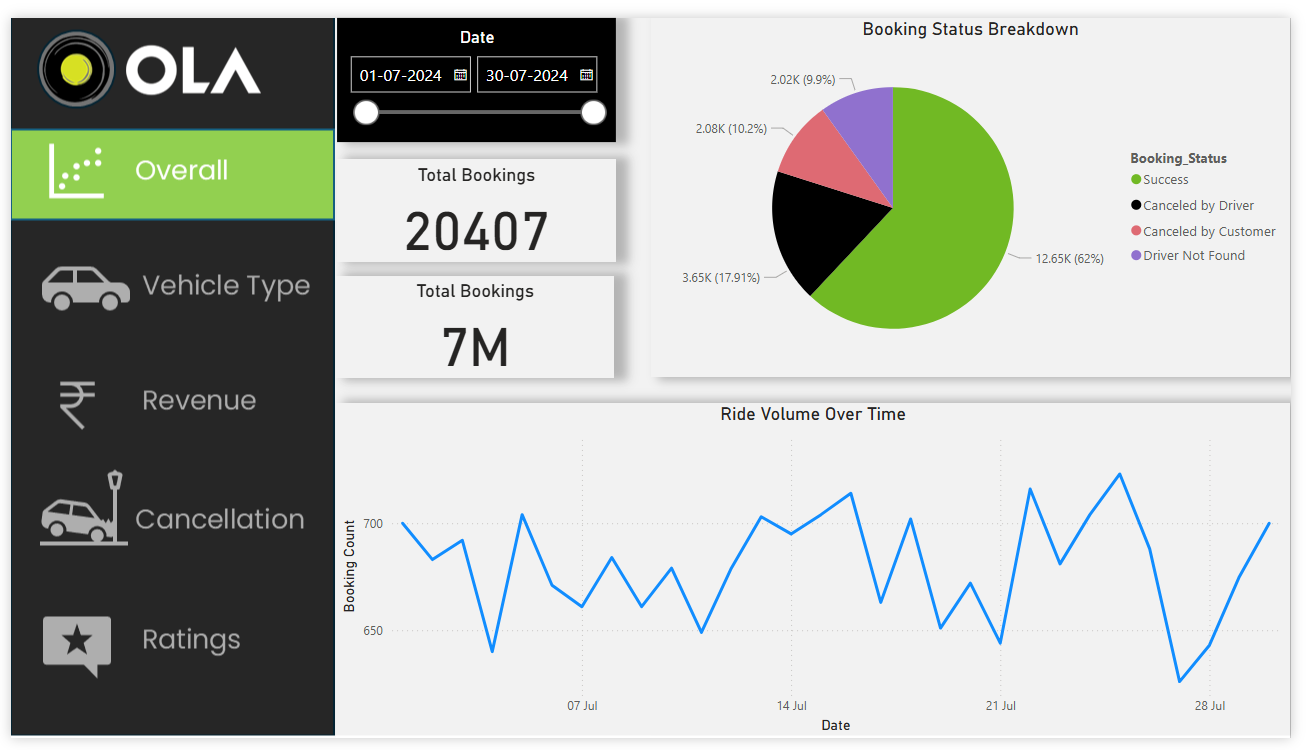

The dashboard page shown, as its layout file describes it:
{"tool":"powerbi","page":{"name":"Overall","canvas":[1280,720],"ordinal":0},"visuals":[{"type":"actionButton","box":[0,221.5,325.3,89.9],"z":0},{"type":"actionButton","box":[0,339.2,325.3,89.9],"z":1000},{"type":"actionButton","box":[1.3,446.8,325.3,89.9],"z":2000},{"type":"actionButton","box":[0,572.2,325.3,89.9],"z":3000},{"type":"lineChart","title":"Ride Volume Over Time","fields":{"Y":["CountNonNull(July.Booking_ID)"],"Category":["July.Date"]},"box":[325.3,384.8,954.4,335.4],"z":4000},{"type":"pieChart","title":"Booking Status Breakdown","fields":{"Category":["July.Booking_Status"],"Y":["CountNonNull(July.Booking_ID)"]},"box":[640.5,0,639.2,359.5],"z":5000},{"type":"slicer","title":"Date","fields":{"Values":["July.Date"]},"box":[326.6,0,278.5,124.1],"z":6000},{"type":"card","title":"Total Bookings","fields":{"Values":["CountNonNull(July.Booking_ID)"]},"box":[326.6,141.8,278.5,102.5],"z":7000},{"type":"card","title":"Total Bookings","fields":{"Values":["Sum(July.Booking_Value)"]},"box":[325.3,257,278.5,102.5],"z":8000}]}

Visuals, with their boxes in screenshot pixels (x1, y1, x2, y2), scaled from the page's 1280x720 canvas onto the 1311x750 screenshot:
actionButton: (x1=0, y1=231, x2=333, y2=324)
actionButton: (x1=0, y1=353, x2=333, y2=447)
actionButton: (x1=1, y1=465, x2=335, y2=559)
actionButton: (x1=0, y1=596, x2=333, y2=690)
"Ride Volume Over Time" lineChart: (x1=333, y1=401, x2=1310, y2=749)
"Booking Status Breakdown" pieChart: (x1=656, y1=0, x2=1310, y2=374)
"Date" slicer: (x1=335, y1=0, x2=620, y2=129)
"Total Bookings" card: (x1=335, y1=148, x2=620, y2=254)
"Total Bookings" card: (x1=333, y1=268, x2=618, y2=374)
